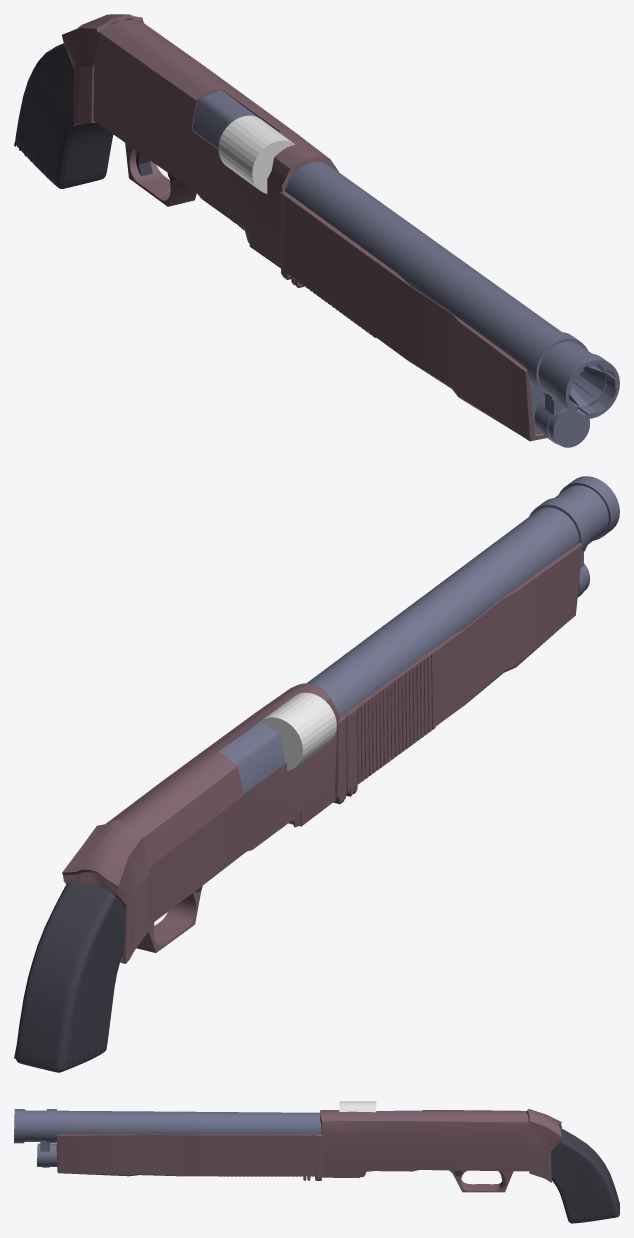
3 views of the same model, one above another, from view 1: azimuth 30°, elevation 25°; view 2: azimuth 150°, elevation 25°; view 3: azimuth 270°, elevation 25° (orthographic). The views are drawn at different scales.
Visible parts, largest first — view 1: Cylinder.003, Cube, Cube.001, Cube.006, Cylinder, Cube.004, Cube.005, Cube.007, Cube.008, Cube.002, Plane; view 2: Cube, Cube.001, Cylinder.003, Cube.006, Cube.004, Cylinder, Cube.007, Cube.005, Cube.008, Cube.002; view 3: Cube, Cube.001, Cylinder.003, Cube.006, Cube.004, Cube.002, Cube.005, Cube.008, Cylinder.
Part boxes in pixels (x1=…): Cylinder.003: x1=285, y1=162, x2=619, y2=447; Cube: x1=93, y1=19, x2=338, y2=268; Cube.001: x1=280, y1=191, x2=546, y2=441; Cube.006: x1=15, y1=43, x2=113, y2=188; Cylinder: x1=218, y1=115, x2=294, y2=193; Cube.004: x1=62, y1=14, x2=143, y2=126; Cube.005: x1=125, y1=143, x2=196, y2=206; Cube.007: x1=192, y1=89, x2=278, y2=148; Cube.008: x1=14, y1=78, x2=69, y2=178; Cube.002: x1=281, y1=194, x2=304, y2=287; Plane: x1=529, y1=380, x2=564, y2=433; Cube: x1=106, y1=683, x2=339, y2=925; Cube.001: x1=335, y1=543, x2=582, y2=797; Cylinder.003: x1=306, y1=476, x2=619, y2=717; Cube.006: x1=15, y1=882, x2=125, y2=1072; Cube.004: x1=62, y1=820, x2=149, y2=963; Cylinder: x1=259, y1=692, x2=336, y2=770; Cube.007: x1=217, y1=709, x2=285, y2=793; Cube.005: x1=136, y1=890, x2=201, y2=952; Cube.008: x1=14, y1=951, x2=119, y2=1070; Cube.002: x1=333, y1=709, x2=357, y2=804; Cube: x1=320, y1=1110, x2=529, y2=1178; Cube.001: x1=56, y1=1134, x2=323, y2=1176; Cylinder.003: x1=14, y1=1109, x2=321, y2=1167; Cube.006: x1=551, y1=1128, x2=619, y2=1223; Cube.004: x1=526, y1=1109, x2=561, y2=1182; Cube.002: x1=303, y1=1135, x2=323, y2=1180; Cube.005: x1=449, y1=1170, x2=513, y2=1192; Cube.008: x1=557, y1=1170, x2=616, y2=1221; Cylinder: x1=339, y1=1101, x2=376, y2=1112.
Size of the model in its own units: 293 by 782 by 3872.
